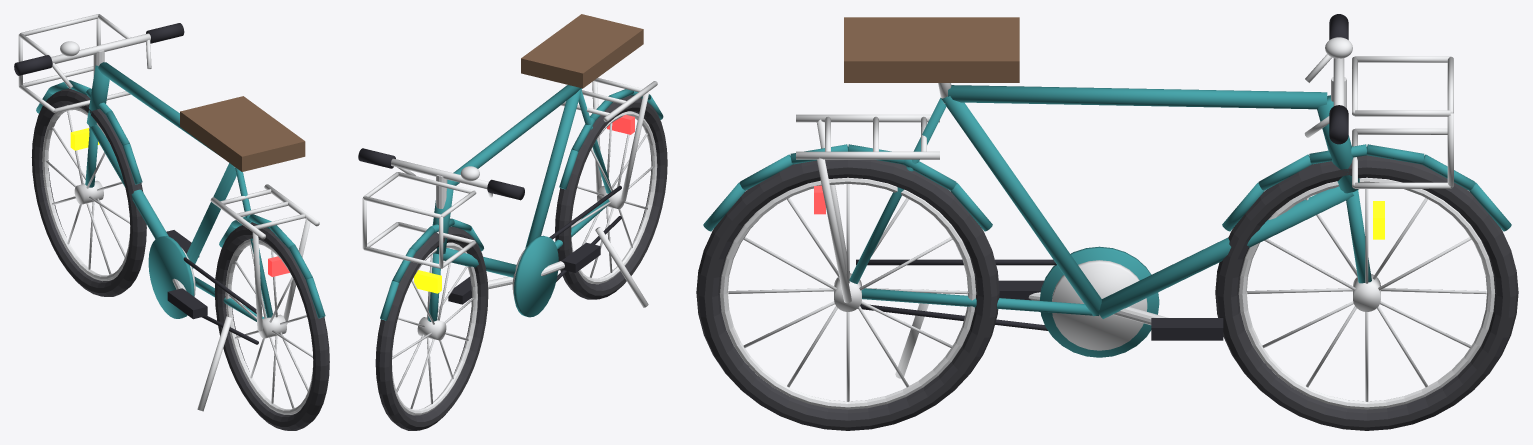
File: bicycle.glb
The picture shows the model from 3 angles, left to right: view 1: azimuth 30°, elevation 25°; view 2: azimuth 150°, elevation 25°; view 3: azimuth 270°, elevation 25°; orthographic projection. The views are drawn at different scales.
Visible parts, largest first — view 1: Bike_Wheel_Rear_Tyre.001, Bike_Wheel_Front_Tyre.001, Bike_Seat.001, Bike_ChainGuard.001, Bike_Wheel_Front_Rim.001, Bike_Wheel_Rear_Rim.001, Bike_Frame_Top.001, Bike_Frame_Seat.001, Bike_Frame_Down.001, Bike_Handlebar.001, Bike_Pedal.003, Bike_Frame_SeatStay.001 (+21 smaller); view 2: Bike_Wheel_Front_Tyre.001, Bike_Seat.001, Bike_Wheel_Rear_Tyre.001, Bike_ChainGuard.001, Bike_Frame_Seat.001, Bike_Frame_Top.001, Bike_Wheel_Rear_Rim.001, Bike_Wheel_Front_Rim.001, Bike_Frame_Down.001, Bike_Handlebar.001, Bike_Pedal.003, Bike_RackLeg.003 (+22 smaller); view 3: Bike_Wheel_Rear_Tyre.001, Bike_Wheel_Front_Tyre.001, Bike_Seat.001, Bike_Frame_Top.001, Bike_Wheel_Rear_Rim.001, Bike_Wheel_Front_Rim.001, Bike_Frame_Down.001, Bike_Chainring.001, Bike_Frame_Seat.001, Bike_ChainGuard.001, Bike_Frame_ChainStay.001, Bike_Pedal.002 (+10 smaller).
Boxes of the visible parts, x1=… form: Bike_Wheel_Rear_Tyre.001: x1=214, y1=222, x2=329, y2=430; Bike_Wheel_Front_Tyre.001: x1=31, y1=88, x2=146, y2=296; Bike_Seat.001: x1=180, y1=96, x2=305, y2=171; Bike_ChainGuard.001: x1=148, y1=236, x2=194, y2=318; Bike_Wheel_Front_Rim.001: x1=42, y1=105, x2=130, y2=281; Bike_Wheel_Rear_Rim.001: x1=225, y1=239, x2=313, y2=414; Bike_Frame_Top.001: x1=98, y1=62, x2=220, y2=156; Bike_Frame_Seat.001: x1=186, y1=163, x2=236, y2=268; Bike_Frame_Down.001: x1=89, y1=124, x2=168, y2=238; Bike_Handlebar.001: x1=51, y1=33, x2=150, y2=63; Bike_Pedal.003: x1=167, y1=288, x2=207, y2=319; Bike_Frame_SeatStay.001: x1=235, y1=167, x2=272, y2=317; Bike_Wheel_Front_Tyre.001: x1=375, y1=226, x2=488, y2=430; Bike_Seat.001: x1=521, y1=14, x2=643, y2=88; Bike_Wheel_Rear_Tyre.001: x1=555, y1=95, x2=667, y2=299; Bike_ChainGuard.001: x1=514, y1=235, x2=558, y2=317; Bike_Frame_Seat.001: x1=525, y1=88, x2=581, y2=247; Bike_Frame_Top.001: x1=447, y1=85, x2=581, y2=185; Bike_Wheel_Rear_Rim.001: x1=571, y1=111, x2=657, y2=284; Bike_Wheel_Front_Rim.001: x1=392, y1=242, x2=477, y2=415; Bike_Frame_Down.001: x1=443, y1=248, x2=516, y2=277; Bike_Handlebar.001: x1=391, y1=158, x2=488, y2=188; Bike_Pedal.003: x1=561, y1=242, x2=600, y2=272; Bike_RackLeg.003: x1=620, y1=91, x2=649, y2=201; Bike_Wheel_Rear_Tyre.001: x1=696, y1=159, x2=999, y2=430; Bike_Wheel_Front_Tyre.001: x1=1215, y1=155, x2=1518, y2=430; Bike_Seat.001: x1=844, y1=17, x2=1019, y2=82; Bike_Frame_Top.001: x1=948, y1=85, x2=1327, y2=109; Bike_Wheel_Rear_Rim.001: x1=719, y1=177, x2=976, y2=409; Bike_Wheel_Front_Rim.001: x1=1238, y1=177, x2=1495, y2=409; Bike_Frame_Down.001: x1=1097, y1=186, x2=1353, y2=318; Bike_Chainring.001: x1=1052, y1=260, x2=1147, y2=350; Bike_Frame_Seat.001: x1=941, y1=96, x2=1101, y2=316; Bike_ChainGuard.001: x1=1039, y1=246, x2=1159, y2=357; Bike_Frame_ChainStay.001: x1=861, y1=288, x2=1099, y2=315; Bike_Pedal.002: x1=1151, y1=318, x2=1223, y2=340.
Size of the model in its own units: 0.67 by 1.08 by 2.06.
